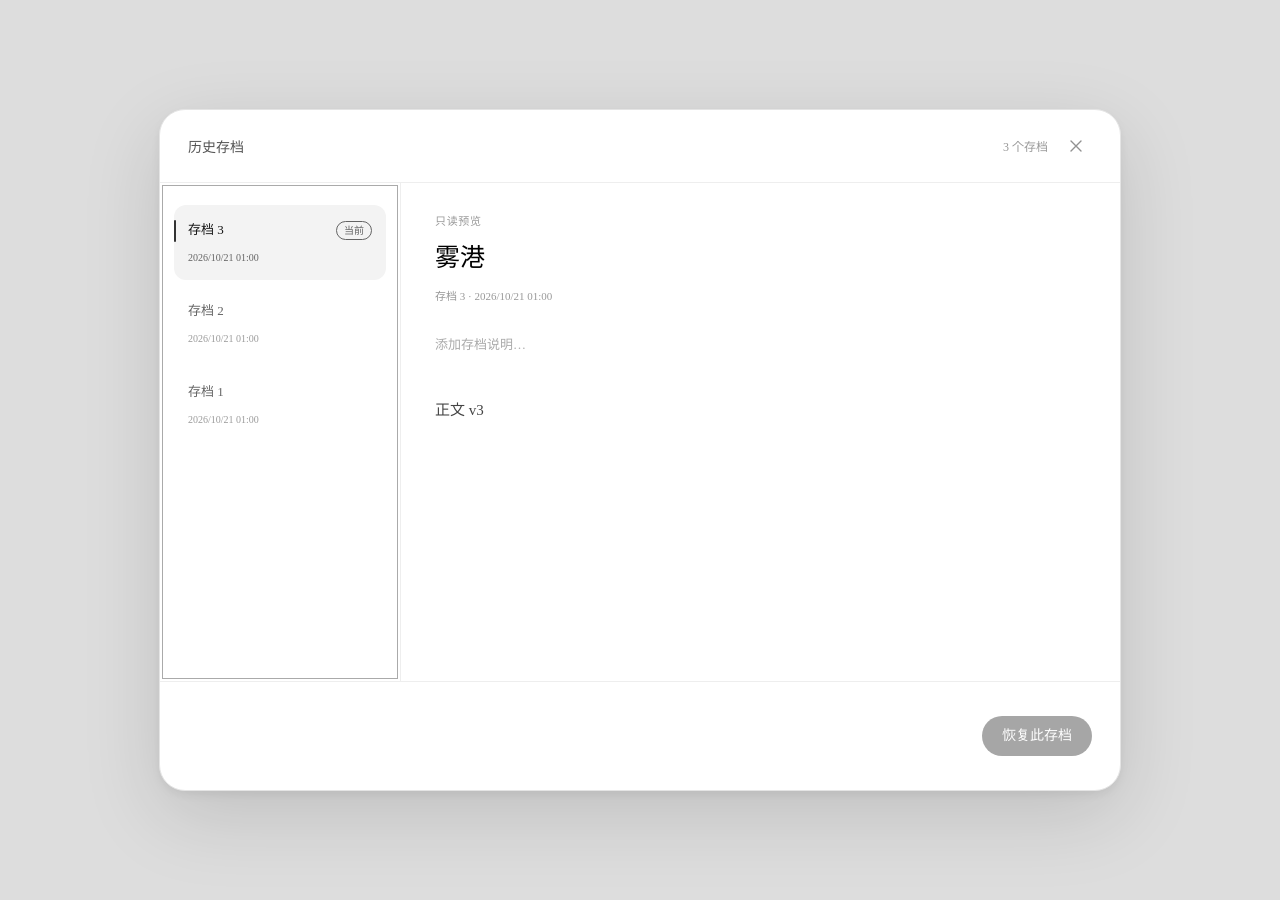
rejects an immutable version change while keeping pending input and dismissal available
Expected: the element named "存档正文" reads "正文 v3", [435,402,484,418]
Type "说明" into the field labelled "存档说明".
click(760, 345); type("说明")  # box [435,320,1086,369]
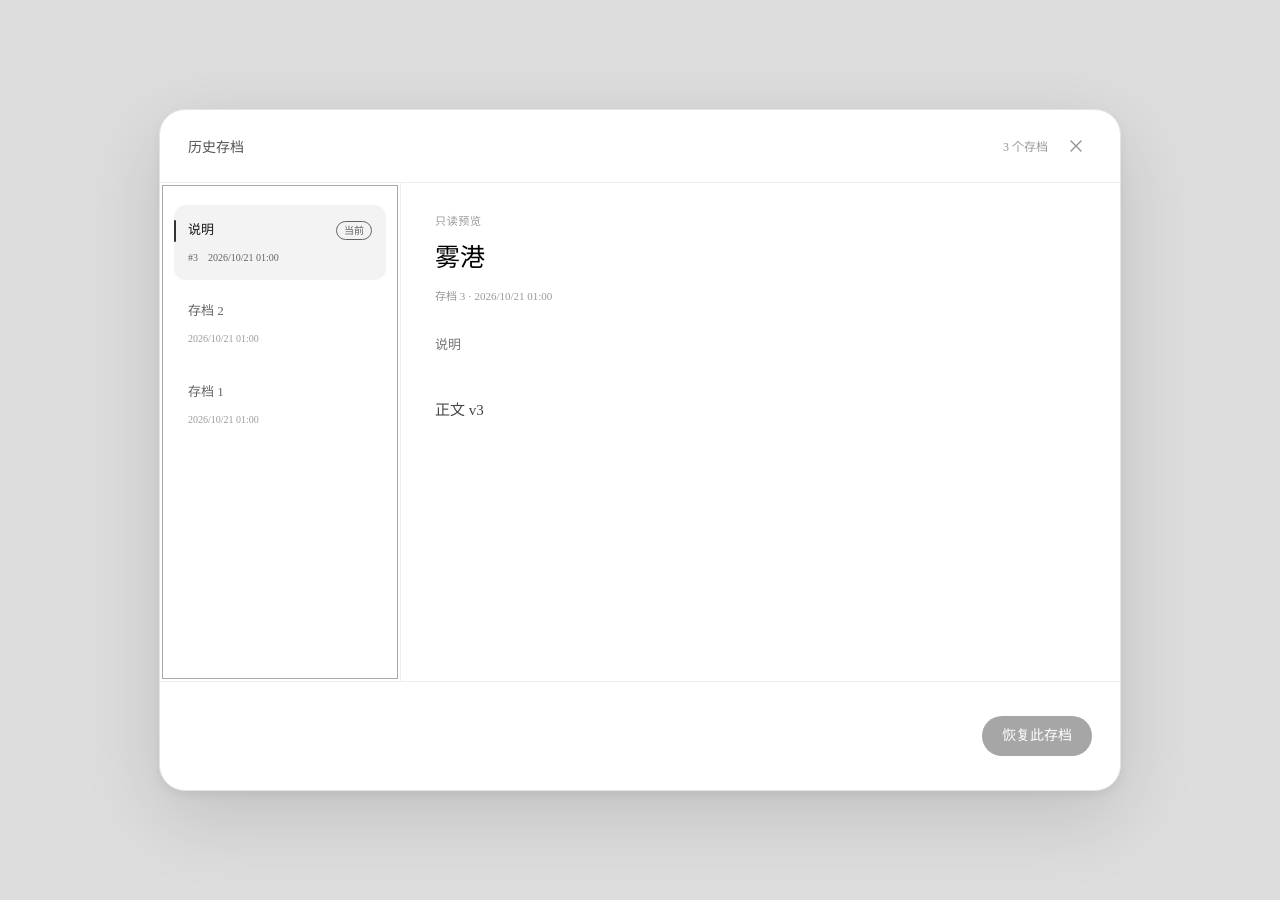
Press Enter in the field named "存档说明", box [435,320,1086,369]
Expected: the button named "关闭历史存档" is enabled, [1060,130,1092,162]
Expected: the button "存档 2 2026/10/21 01:00" is enabled, [174,286,386,361]
Press Enter in the field named "存档说明", box [435,320,1086,369]
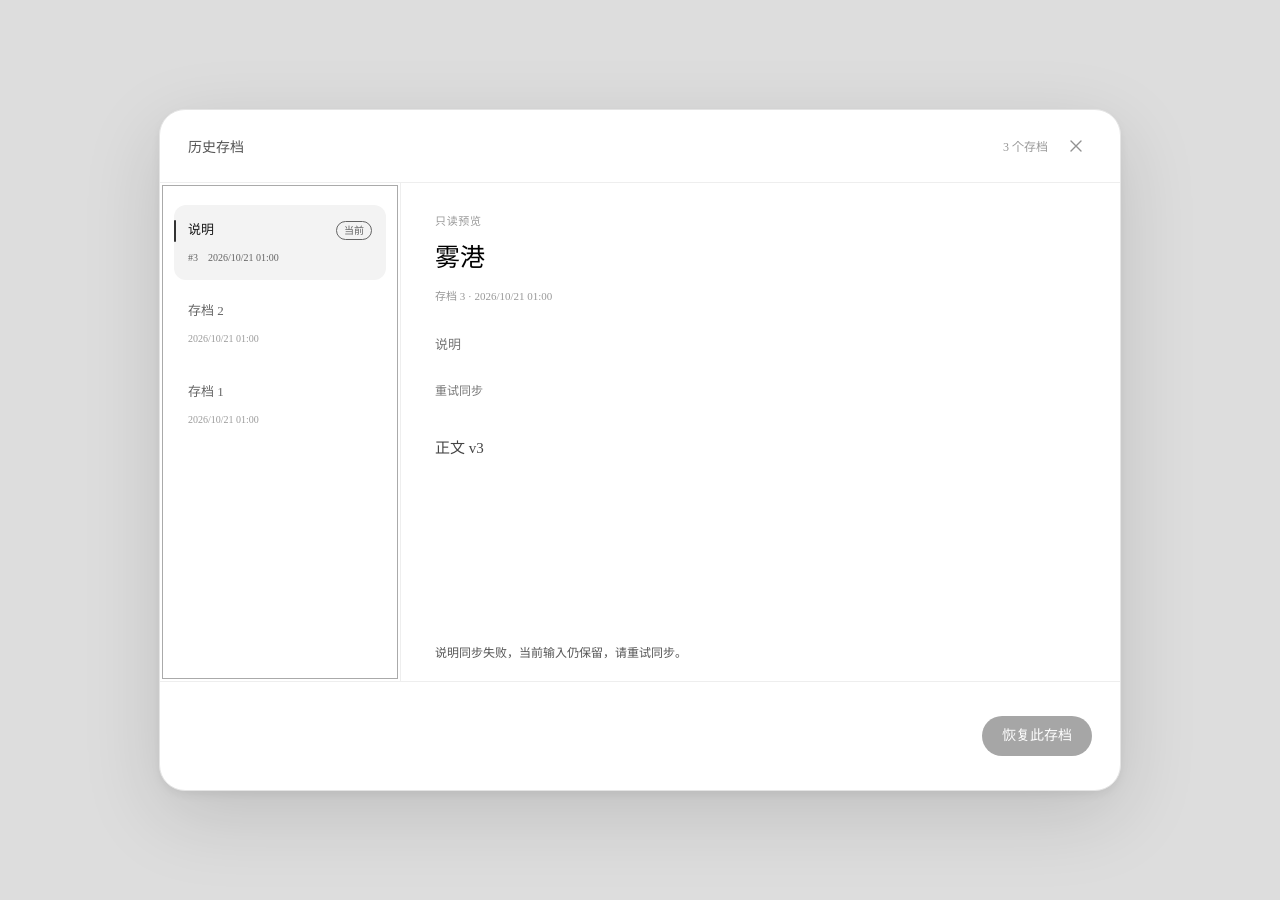
Expected: the button named "关闭历史存档" is enabled, [1060,130,1092,162]
Result: the message shows "说明同步失败" at [435,646,687,660]
